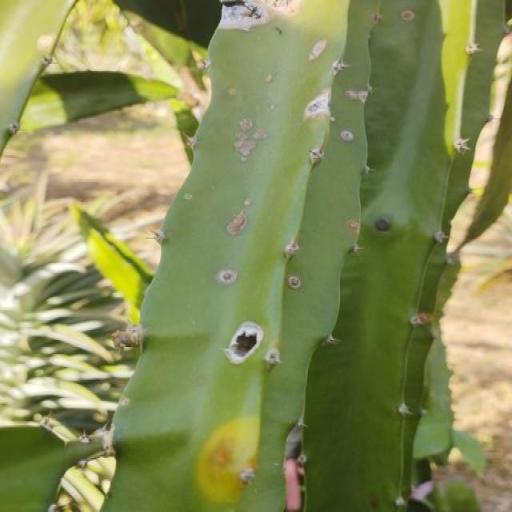stemcanker: (262, 158, 294, 212), (115, 296, 140, 342), (159, 364, 184, 404), (256, 287, 276, 330), (303, 260, 323, 298), (159, 153, 181, 180), (230, 84, 248, 117), (221, 197, 236, 224), (164, 230, 177, 256)
